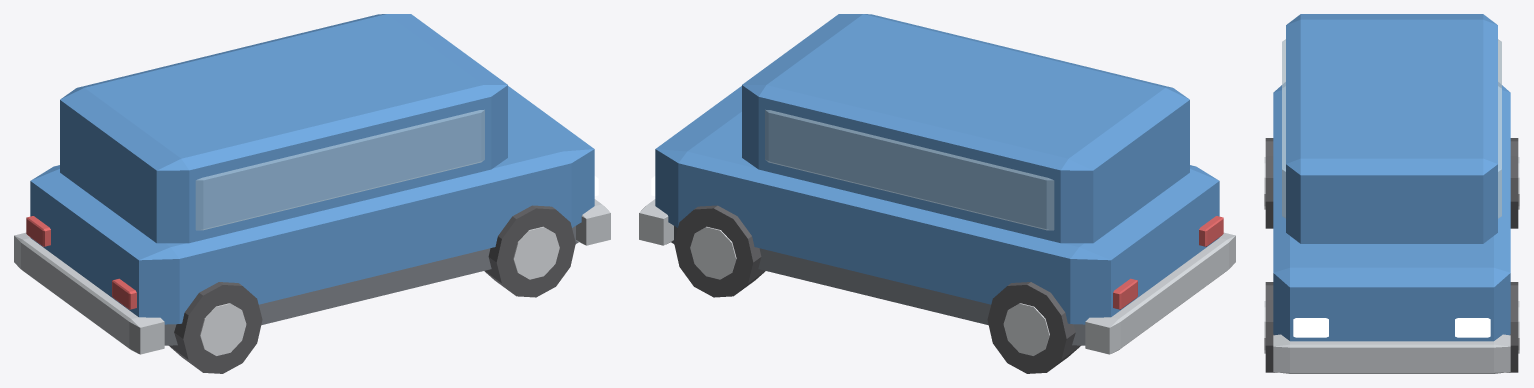
The model's file is b03_subcompact_crossover.glb.
The picture shows the model from 3 angles, left to right: view 1: azimuth 30°, elevation 25°; view 2: azimuth 150°, elevation 25°; view 3: azimuth 270°, elevation 25°; orthographic projection. The views are drawn at different scales.
Visible parts, largest first — view 1: b03_subcompact_crossover; view 2: b03_subcompact_crossover; view 3: b03_subcompact_crossover.
Boxes of the visible parts, bbox=[...] form: b03_subcompact_crossover: bbox=[14, 14, 610, 373]; b03_subcompact_crossover: bbox=[639, 14, 1235, 373]; b03_subcompact_crossover: bbox=[1264, 14, 1519, 373].
Size of the model in its own units: 4.45 by 1.86 by 2.2.
